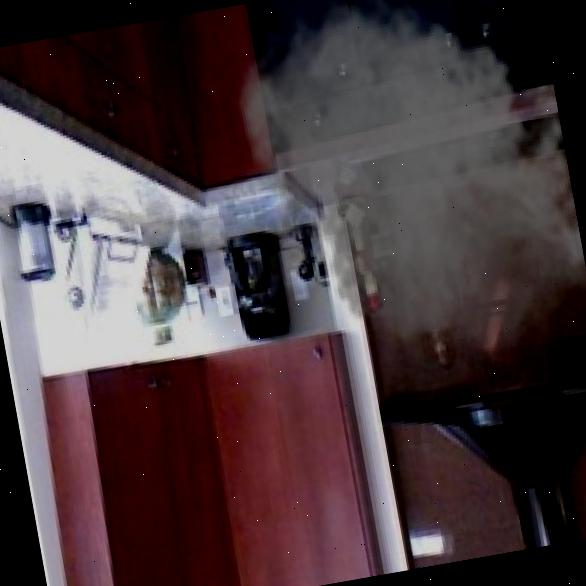smoke: (216, 0, 586, 418)
